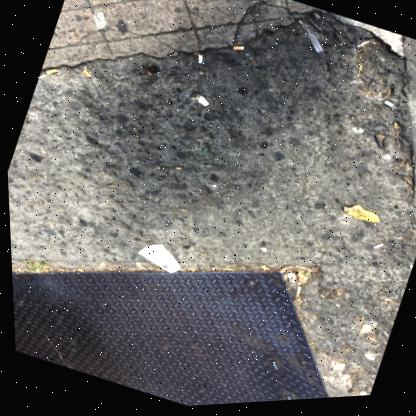Paper: (135, 246, 177, 274)
Plastic: (298, 23, 321, 57), (306, 22, 322, 36)
Waste: (196, 98, 207, 109), (45, 69, 57, 75), (82, 70, 90, 78), (370, 248, 381, 253), (293, 289, 298, 297), (197, 56, 201, 65), (232, 49, 243, 52), (407, 270, 410, 272)
